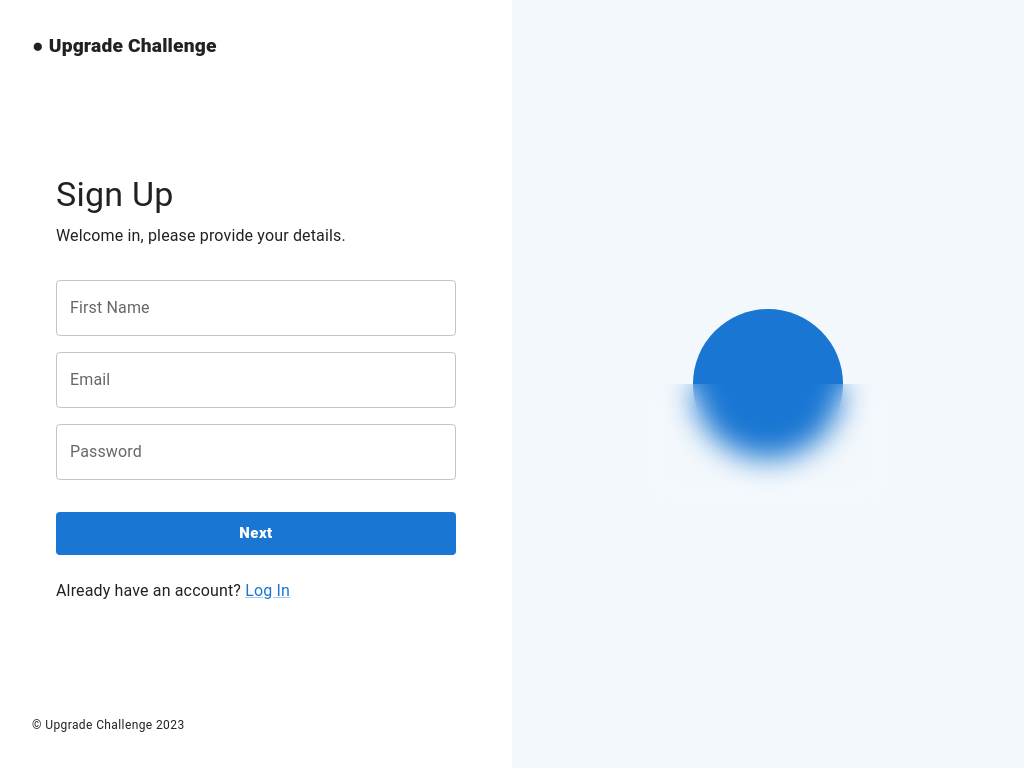
Scenario: SignUpPage › should update email error on blur
Click the button with test id "next-button".
click(256, 533)  # box 56,512 -> 456,555
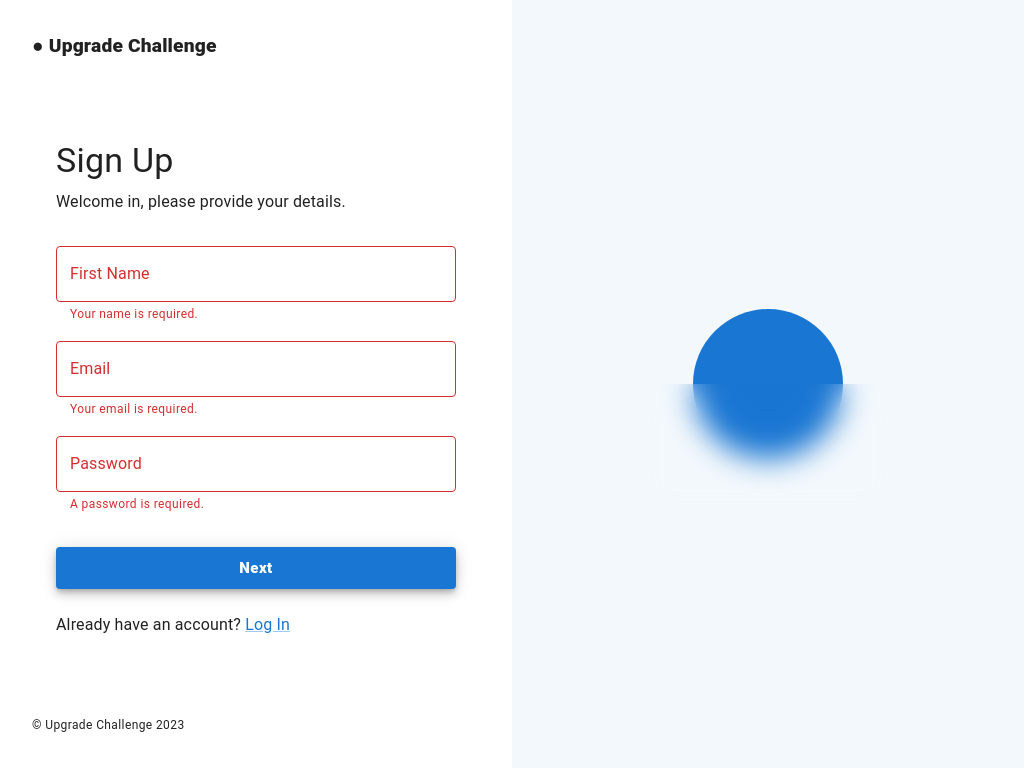
expect the text "Your email is required." is shown: met, box 70,402 -> 198,416
Type "not an email" into the field labelled "Email".
click(256, 369); type("not an email")  # box 56,341 -> 456,397
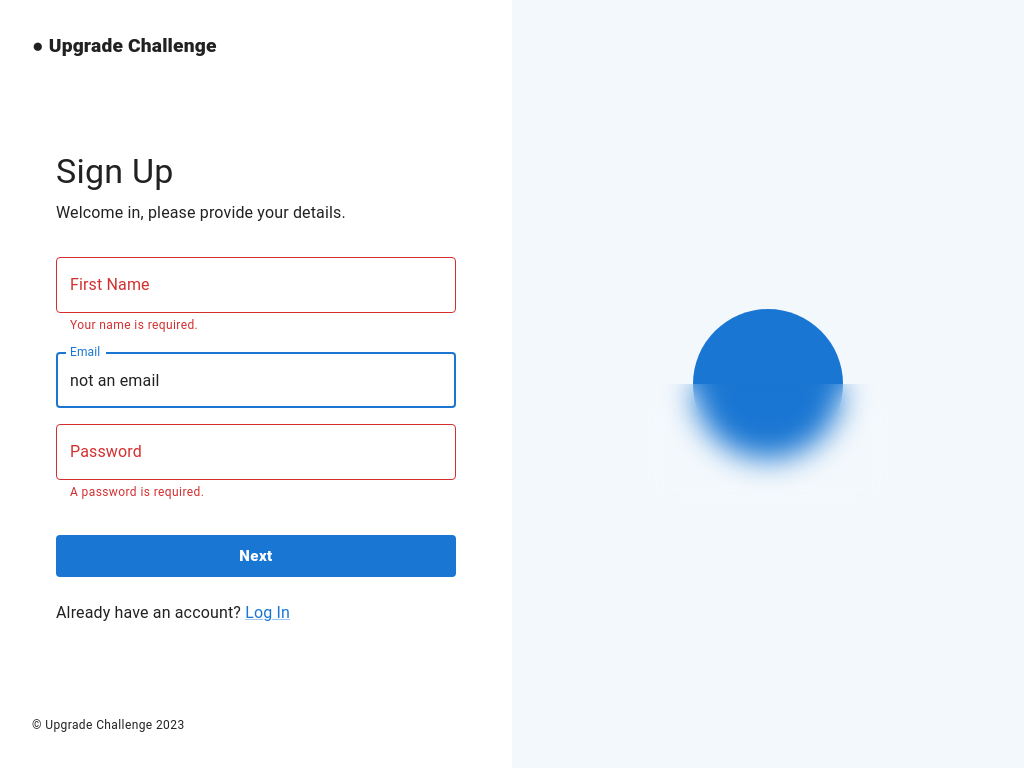
Click the button with test id "next-button".
click(256, 556)  # box 56,535 -> 456,578
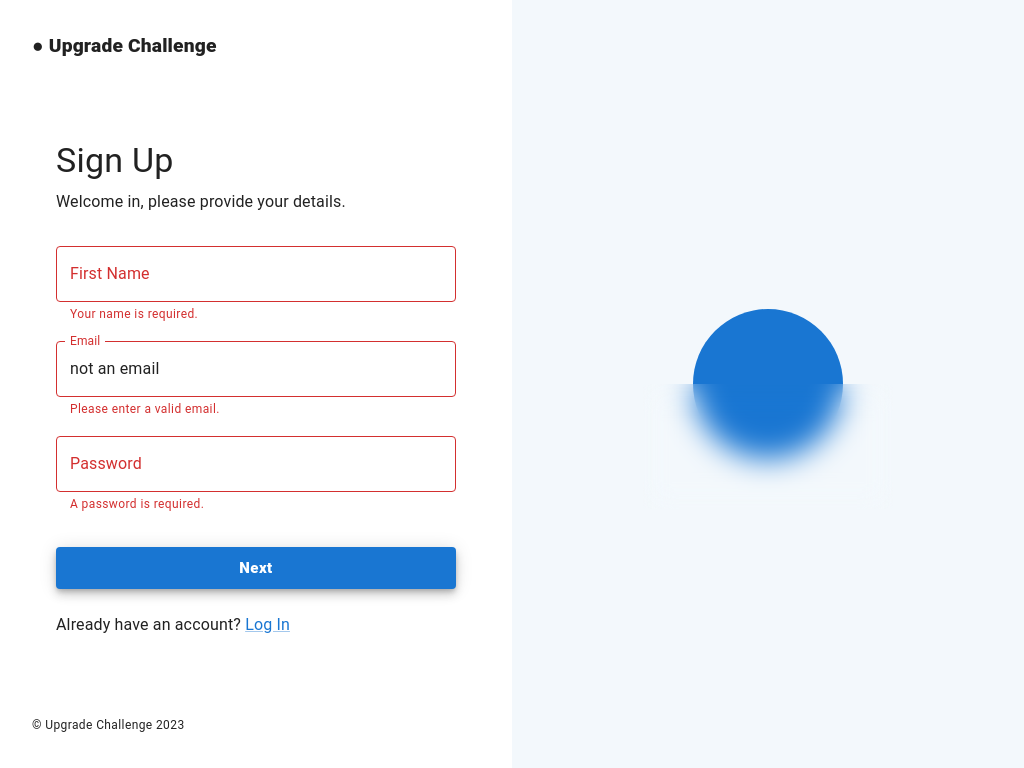
expect the text "Please enter a valid email." is shown: met, box 70,402 -> 220,416
